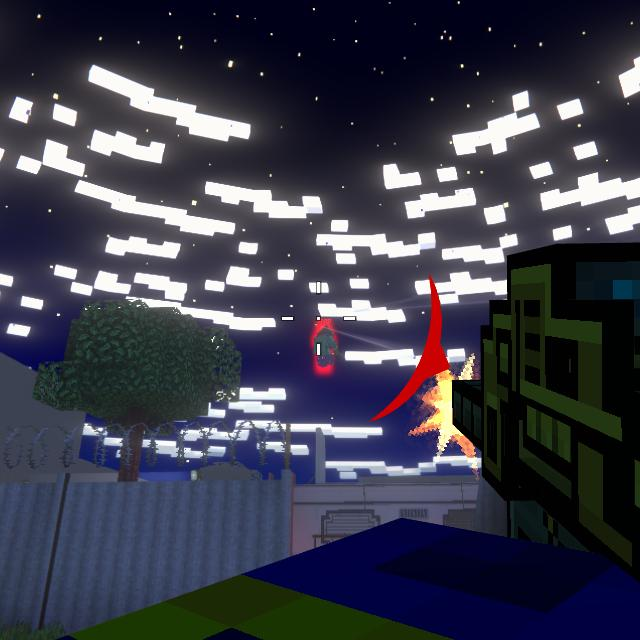Enemy: (314, 326, 335, 367)
